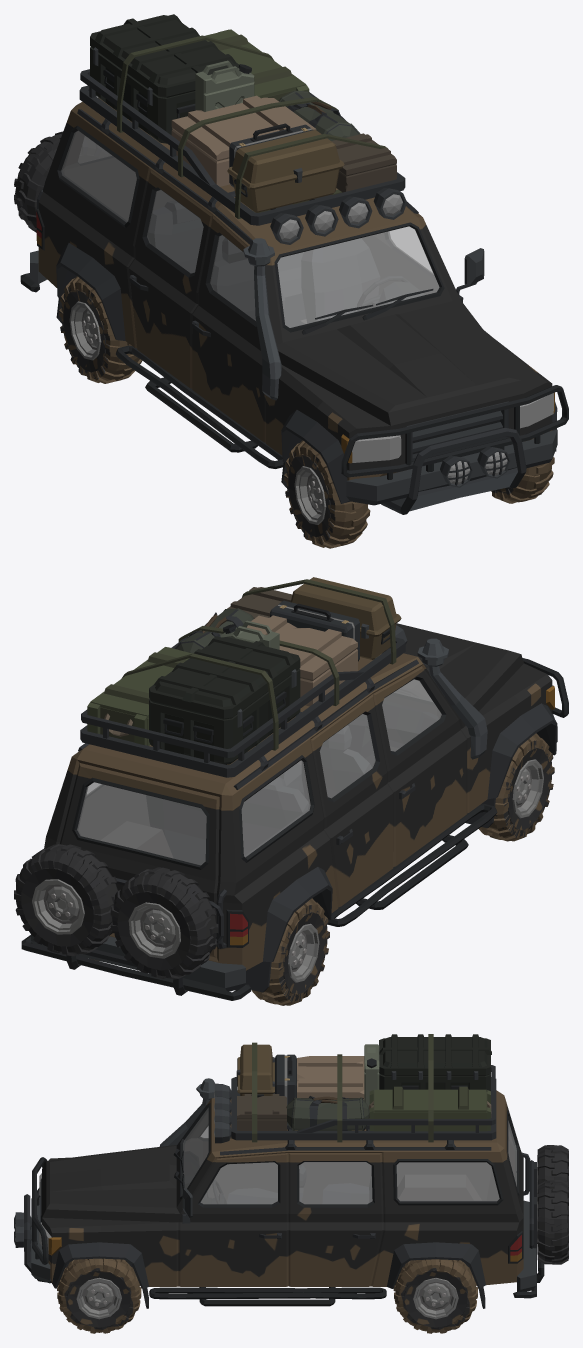
The model's file is SM_Veh_SUV_01.fbx.
3 renders of one model, top to bottom at view 1: azimuth 30°, elevation 25°; view 2: azimuth 150°, elevation 25°; view 3: azimuth 270°, elevation 25°, orthographic. The views are drawn at different scales.
Visible parts, largest first — view 1: SM_Veh_SUV_01, SM_Veh_SUV_01_Glass, SM_Veh_SUV_01_Wheel_fr, SM_Veh_SUV_01_Wheel_rr, SM_Veh_SUV_01_Wheel_fl; view 2: SM_Veh_SUV_01, SM_Veh_SUV_01_Glass, SM_Veh_SUV_01_Wheel_fr, SM_Veh_SUV_01_Wheel_rr; view 3: SM_Veh_SUV_01, SM_Veh_SUV_01_Glass, SM_Veh_SUV_01_Wheel_fl, SM_Veh_SUV_01_Wheel_rl.
Part boxes in pixels (<box>): SM_Veh_SUV_01: <box>14,14,568,514</box>; SM_Veh_SUV_01_Glass: <box>61,131,439,327</box>; SM_Veh_SUV_01_Wheel_fr: <box>284,440,370,548</box>; SM_Veh_SUV_01_Wheel_rr: <box>59,276,142,383</box>; SM_Veh_SUV_01_Wheel_fl: <box>491,457,554,503</box>; SM_Veh_SUV_01: <box>14,577,568,1000</box>; SM_Veh_SUV_01_Glass: <box>77,679,441,865</box>; SM_Veh_SUV_01_Wheel_fr: <box>479,733,554,841</box>; SM_Veh_SUV_01_Wheel_rr: <box>252,898,329,1005</box>; SM_Veh_SUV_01: <box>14,1034,568,1308</box>; SM_Veh_SUV_01_Glass: <box>183,1108,516,1204</box>; SM_Veh_SUV_01_Wheel_fl: <box>57,1258,141,1333</box>; SM_Veh_SUV_01_Wheel_rl: <box>393,1259,477,1333</box>.
Bounding box in the file's own units: 228 × 287 × 596.
